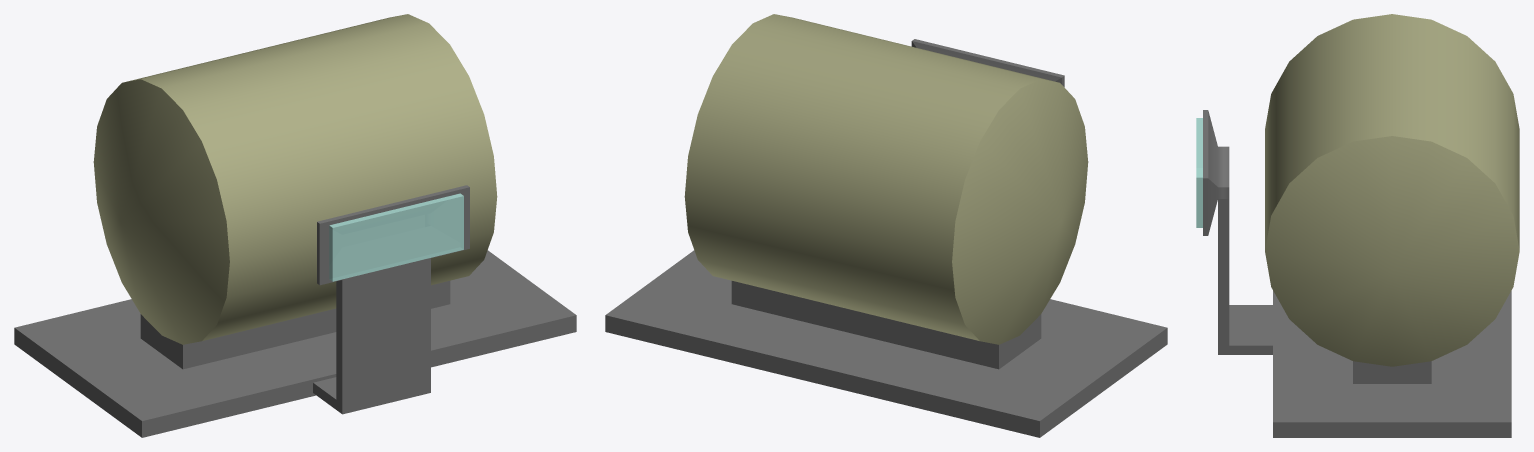
The model's file is TireInflator.fbx.
The picture shows the model from 3 angles, left to right: view 1: azimuth 30°, elevation 25°; view 2: azimuth 150°, elevation 25°; view 3: azimuth 270°, elevation 25°; orthographic projection. The views are drawn at different scales.
Visible parts, largest first — view 1: pCylinder1; view 2: pCylinder1; view 3: pCylinder1.
Boxes of the visible parts, x1,y1,x2,y2 form: pCylinder1: (14,14,576,437); pCylinder1: (605,14,1167,437); pCylinder1: (1196,14,1519,437).
Size of the model in its own units: 23.78 by 14.77 by 16.4.
